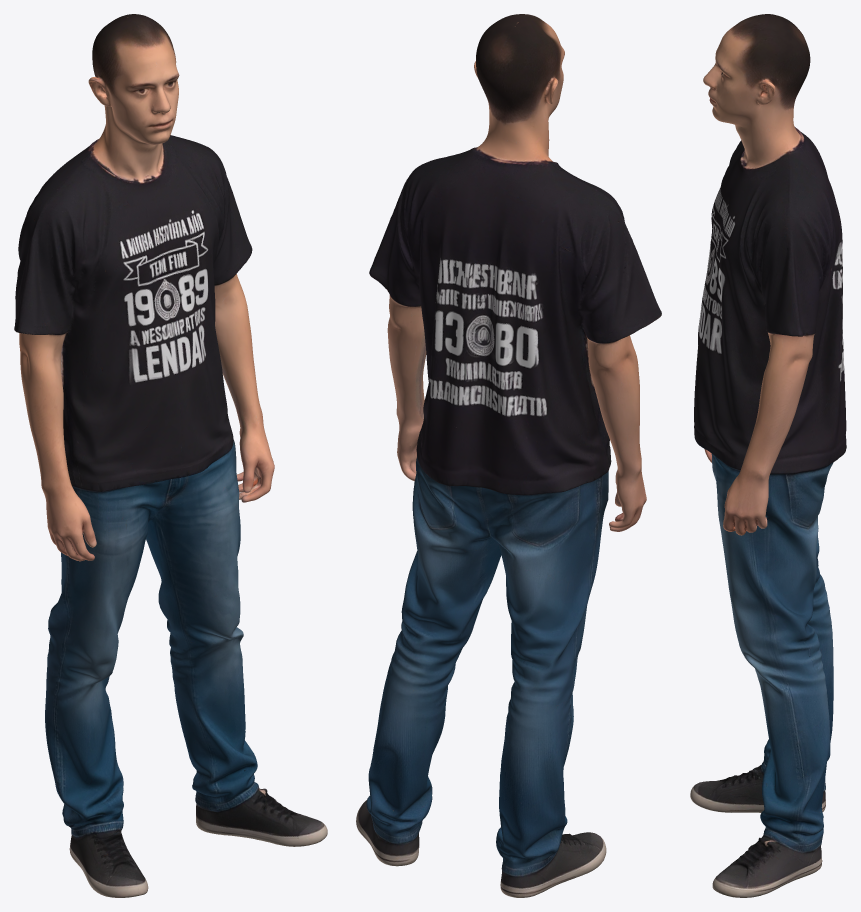
Rendered from Maleplayer.glb.
The picture shows the model from 3 angles, left to right: view 1: azimuth 30°, elevation 25°; view 2: azimuth 150°, elevation 25°; view 3: azimuth 270°, elevation 25°; orthographic projection. The views are drawn at different scales.
Visible parts, largest first — view 1: Object_5, Object_6; view 2: Object_5, Object_6; view 3: Object_5, Object_6.
Boxes of the visible parts, box(x1,y1,x2,y2) form: Object_5: box(15, 14, 327, 897); Object_6: box(14, 51, 327, 897); Object_5: box(358, 14, 646, 897); Object_6: box(356, 51, 661, 897); Object_5: box(690, 14, 846, 897); Object_6: box(703, 45, 830, 897).
Bounding box in the file's own units: 0.7088 × 1.9 × 0.3344.
Materials: 1 (1 with a texture image).
